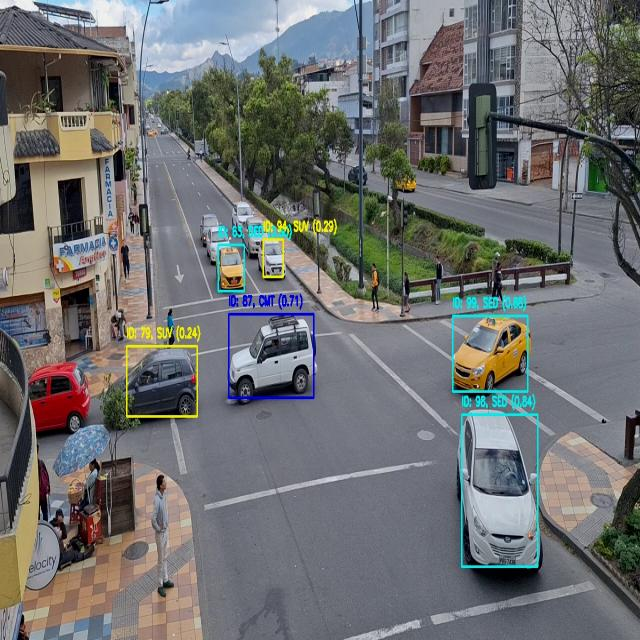CMT: (243, 217, 265, 258)
SED: (454, 317, 530, 392), (218, 247, 246, 291), (260, 237, 286, 278)
SUV: (458, 412, 537, 571), (230, 316, 315, 404), (234, 202, 252, 230)
